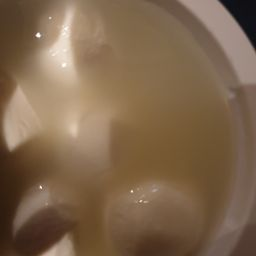Mini Mozzarella Cheese: (25, 37, 248, 228), (82, 161, 212, 253), (47, 9, 130, 93), (57, 108, 149, 177), (12, 176, 87, 256)
